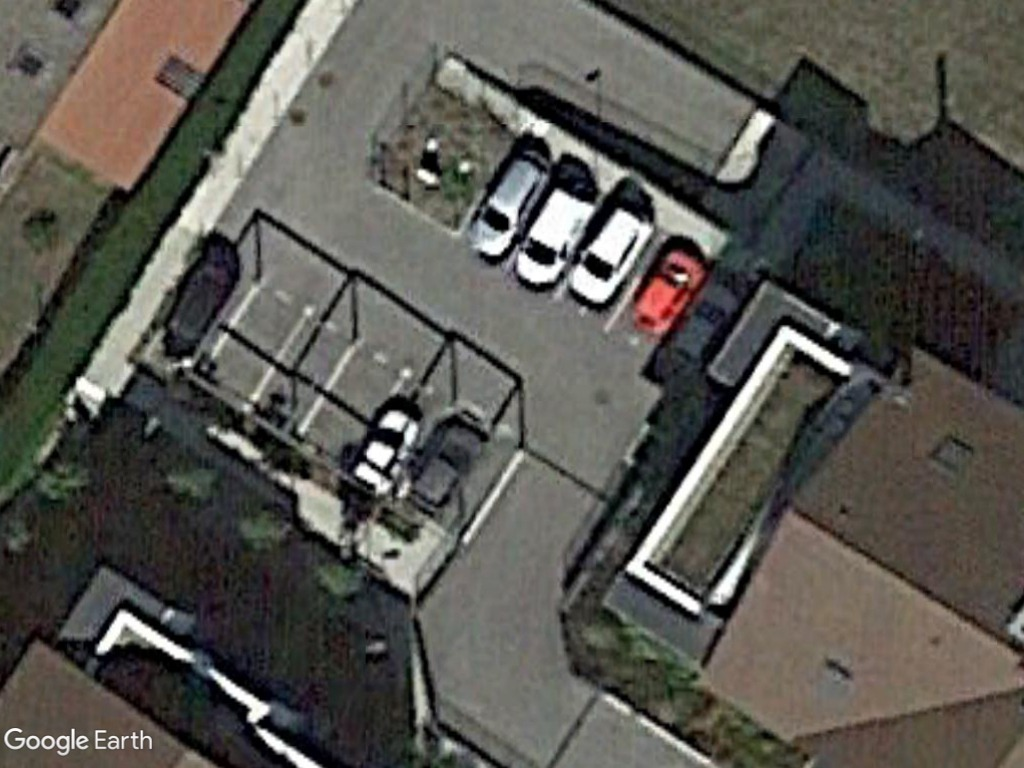car: (465, 148, 554, 262), (565, 206, 657, 311), (511, 183, 599, 290), (629, 243, 710, 337)
